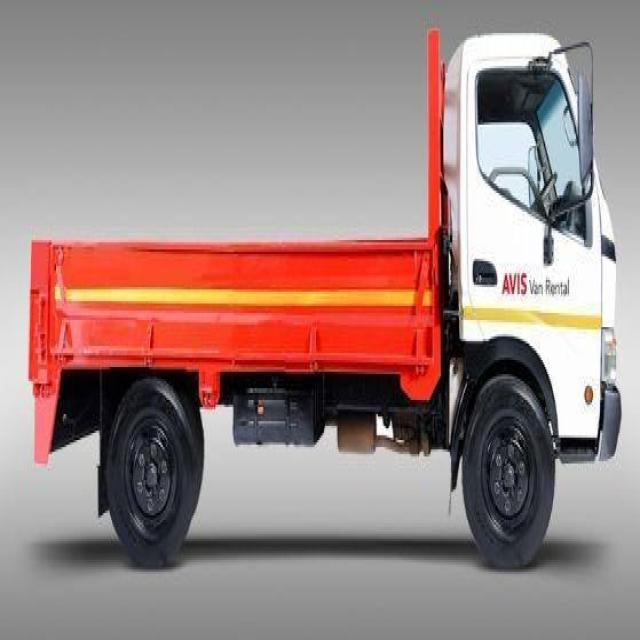Truck: (6, 16, 625, 562)
